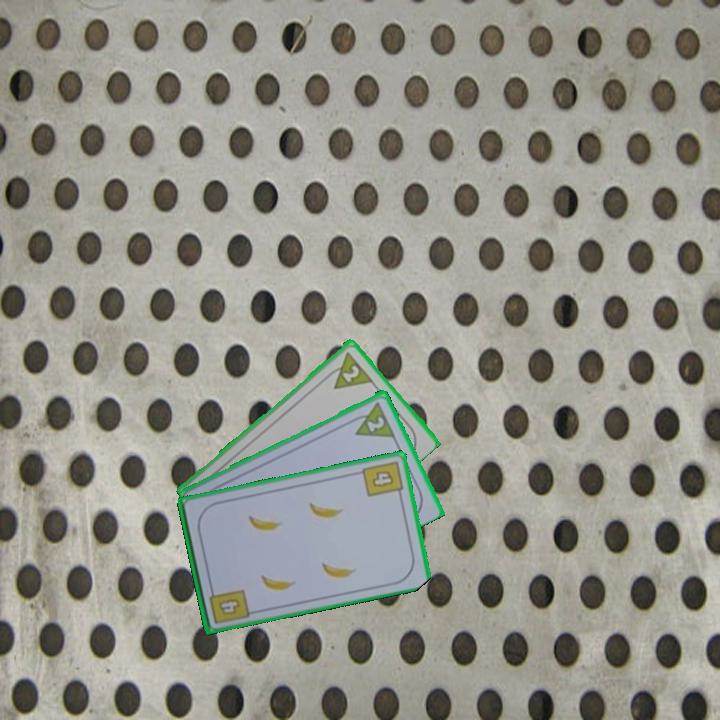2p: (321, 347, 375, 392), (363, 412, 388, 434)
4b: (205, 583, 252, 627), (359, 457, 406, 500)
